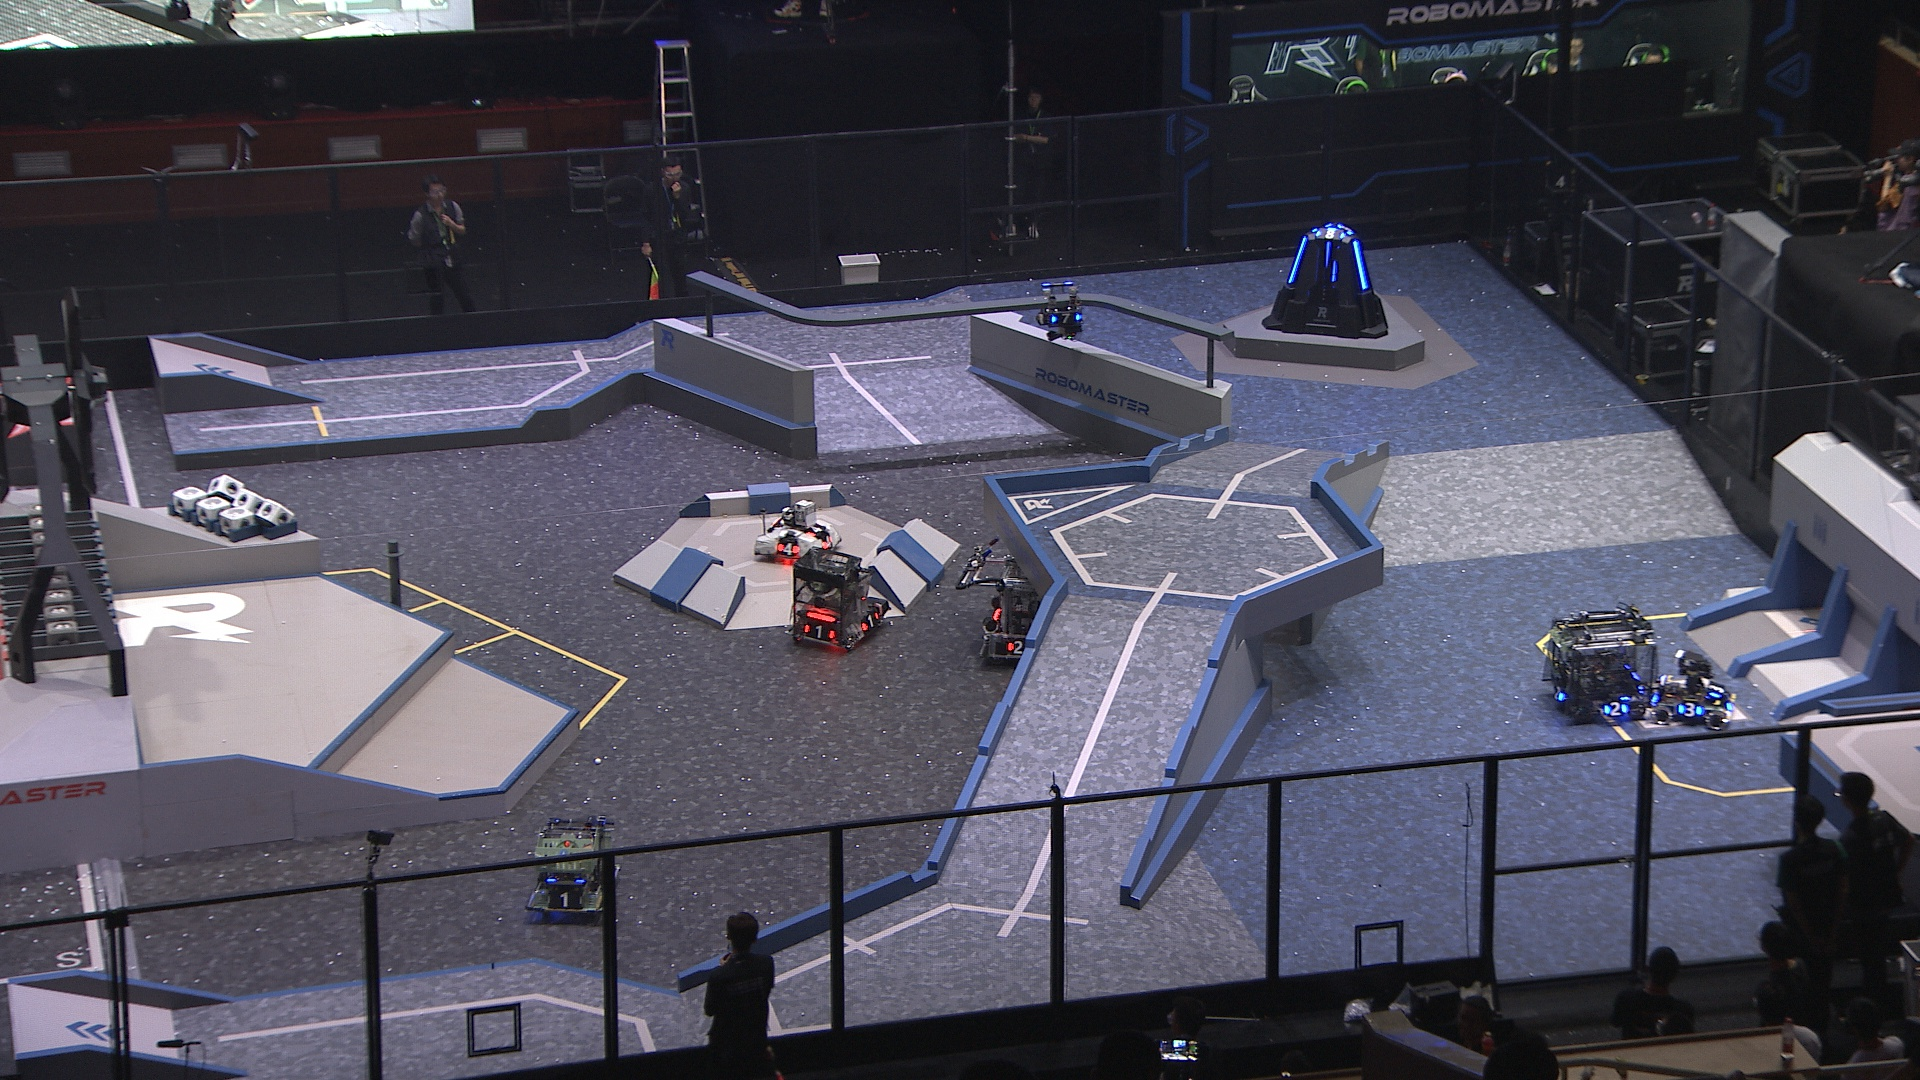armor: (1287, 233, 1309, 286), (1352, 239, 1371, 291), (547, 887, 583, 910), (800, 621, 835, 642), (1311, 224, 1346, 243), (1048, 313, 1084, 328), (1604, 700, 1633, 717), (1677, 700, 1704, 719), (775, 541, 799, 559), (858, 612, 878, 632), (1006, 638, 1026, 657), (1706, 680, 1727, 698), (1551, 684, 1567, 705), (1321, 243, 1333, 268), (808, 524, 825, 537), (820, 533, 832, 550), (1329, 262, 1338, 281)
base: (1259, 222, 1391, 342)
car: (1543, 604, 1660, 719), (977, 556, 1088, 669), (787, 546, 893, 650), (524, 818, 621, 918), (1650, 647, 1735, 731), (752, 498, 841, 564)
watcher: (1033, 281, 1088, 343)
